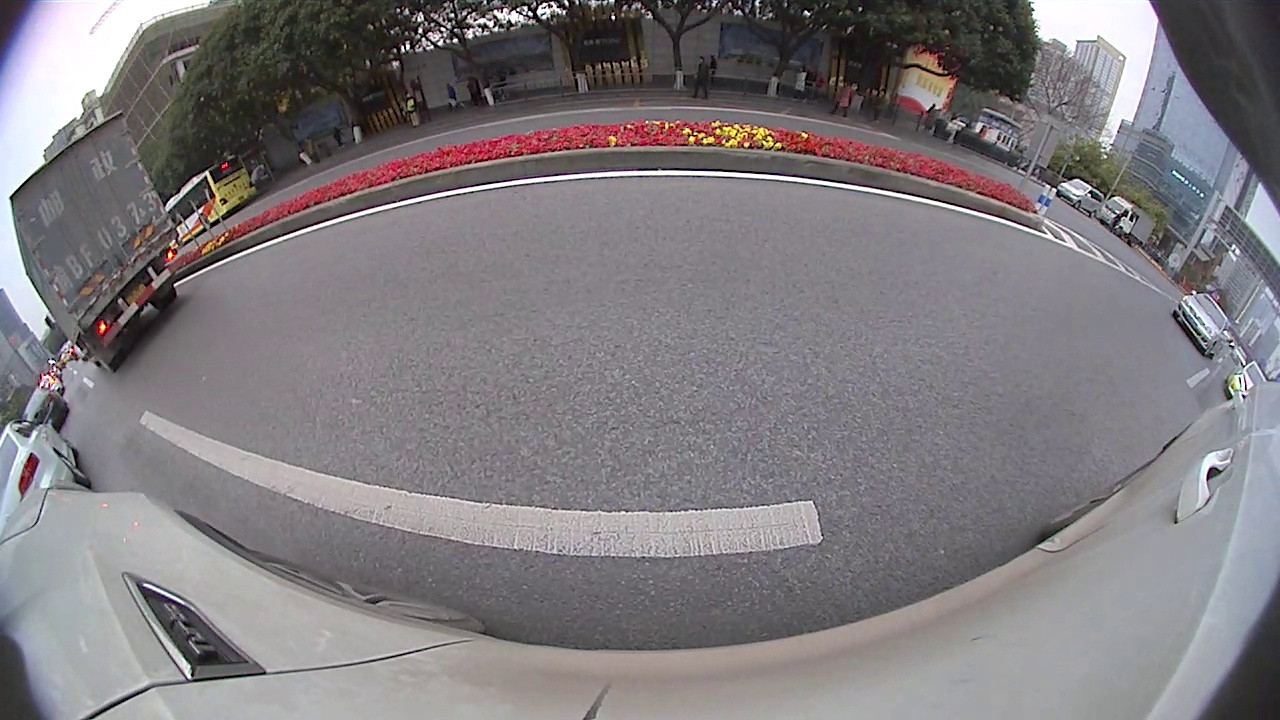car: (2, 422, 92, 533), (1173, 292, 1234, 359), (1057, 180, 1107, 221), (26, 387, 69, 434), (1226, 364, 1268, 404)
rear: (85, 338, 129, 376)
truck: (8, 109, 180, 373), (1100, 194, 1160, 249)
